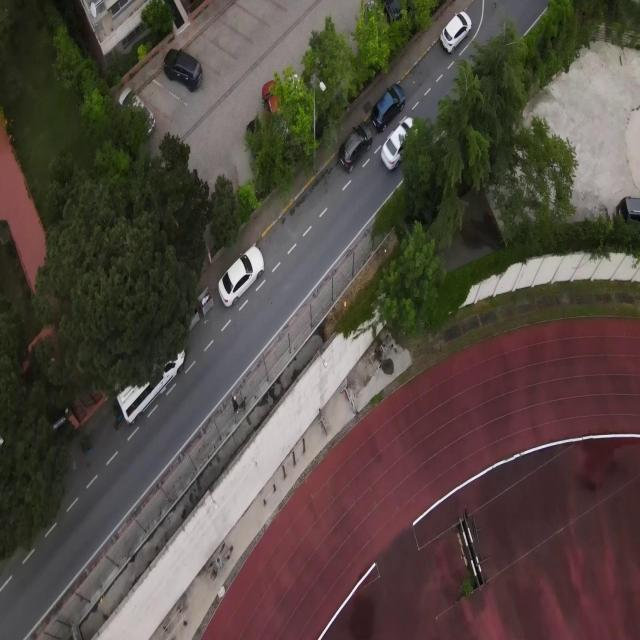p3rson: (232, 396, 238, 410)
